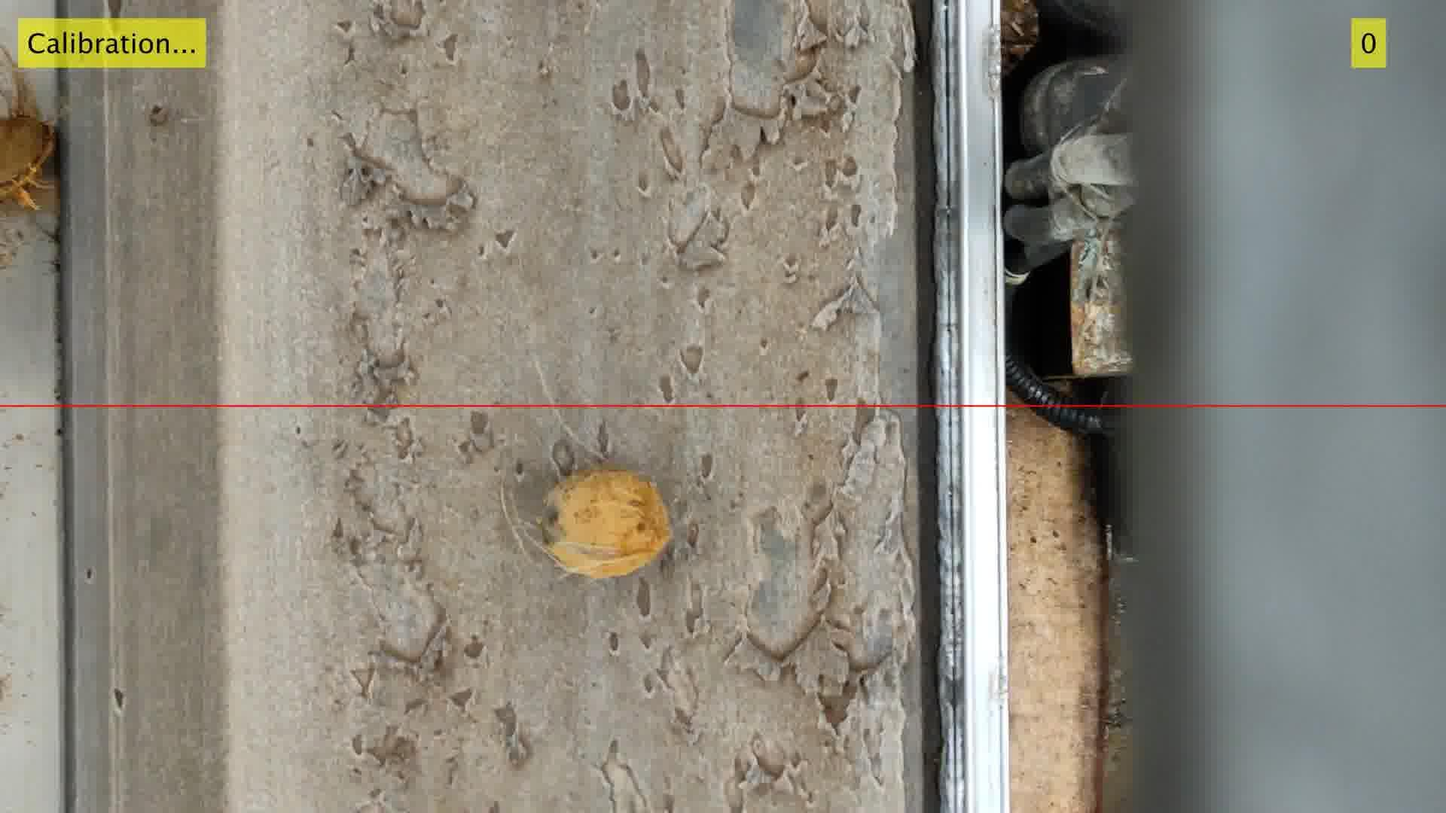Coconut: (539, 462, 691, 582), (0, 49, 58, 209), (0, 116, 57, 210)
